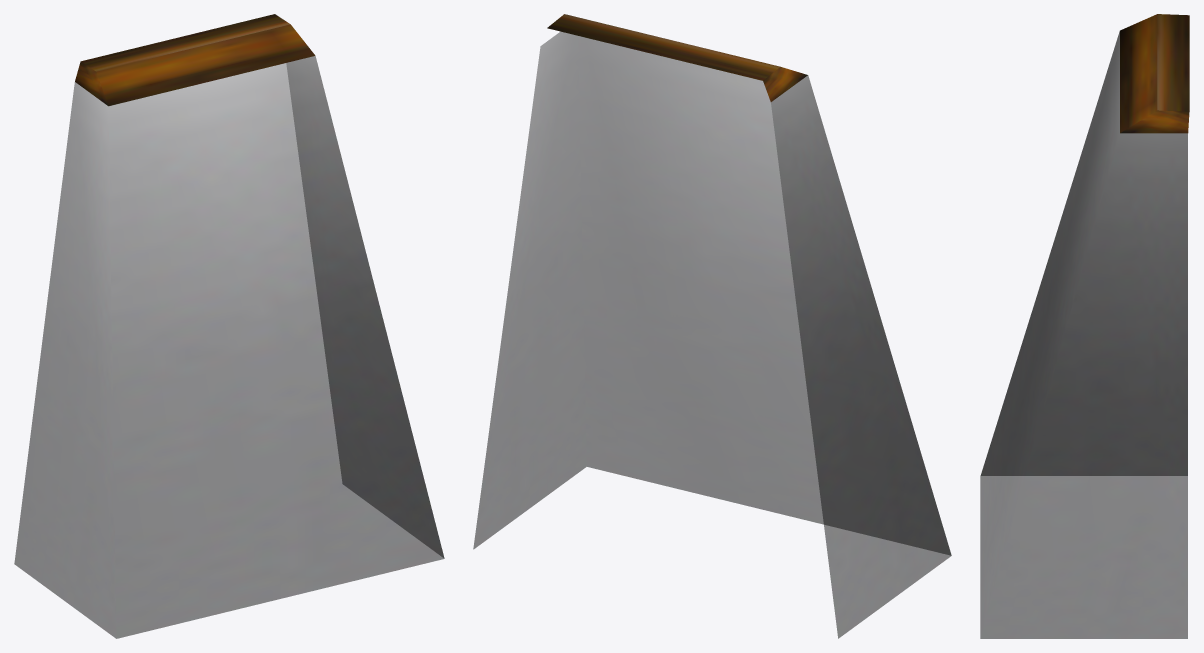
Rendered from prop-068.glb.
The picture shows the model from 3 angles, left to right: view 1: azimuth 30°, elevation 25°; view 2: azimuth 150°, elevation 25°; view 3: azimuth 270°, elevation 25°; orthographic projection. The views are drawn at different scales.
Parts seen in each view (by area): view 1: root; view 2: root; view 3: root.
Boxes of the visible parts, <box> form: root: <box>14,14,444,638</box>; root: <box>473,14,951,638</box>; root: <box>980,14,1189,638</box>.
Size of the model in its own units: 1.1 by 1.56 by 0.5977.
2 materials, 2 textured.
